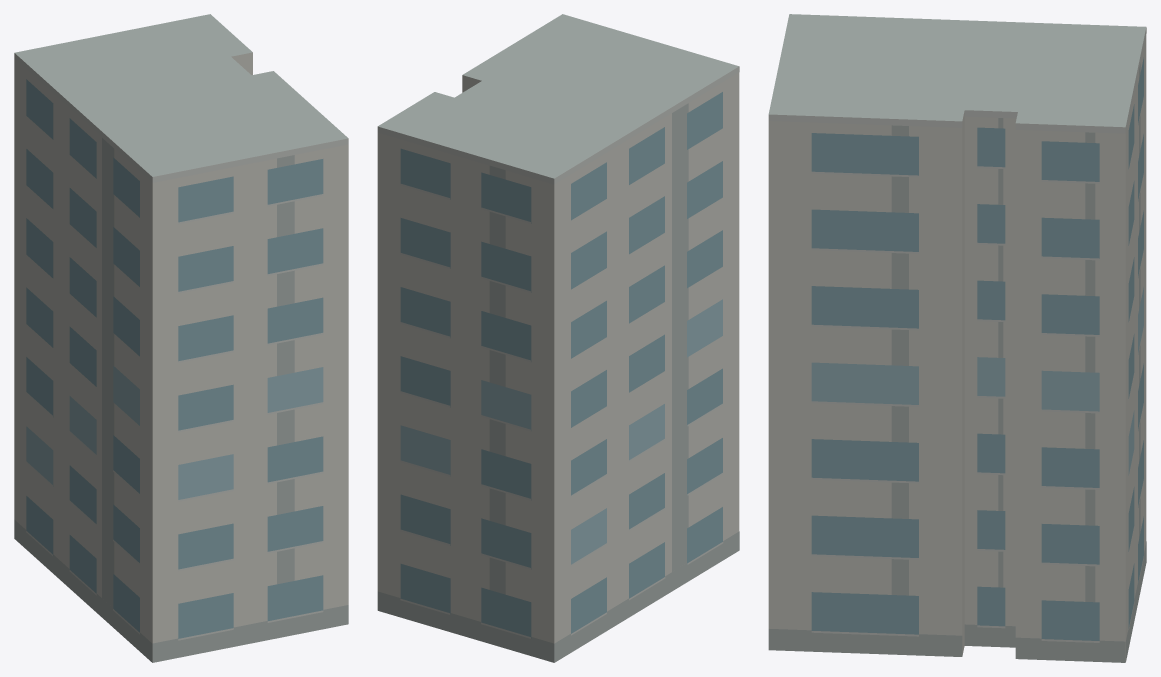
File: survey-upis-32769592.glb
3 renders of one model, left to right at view 1: azimuth 30°, elevation 25°; view 2: azimuth 150°, elevation 25°; view 3: azimuth 270°, elevation 25°, orthographic. The views are drawn at different scales.
Visible parts, largest first — view 1: survey-upis-32769592.tmp; view 2: survey-upis-32769592.tmp; view 3: survey-upis-32769592.tmp.
Part boxes in pixels (left/top/right/bottom): survey-upis-32769592.tmp: left=14, top=14, right=348, bottom=662; survey-upis-32769592.tmp: left=377, top=14, right=739, bottom=662; survey-upis-32769592.tmp: left=768, top=14, right=1146, bottom=662.
Size of the model in its own units: 9.03 by 19.9 by 12.73.
